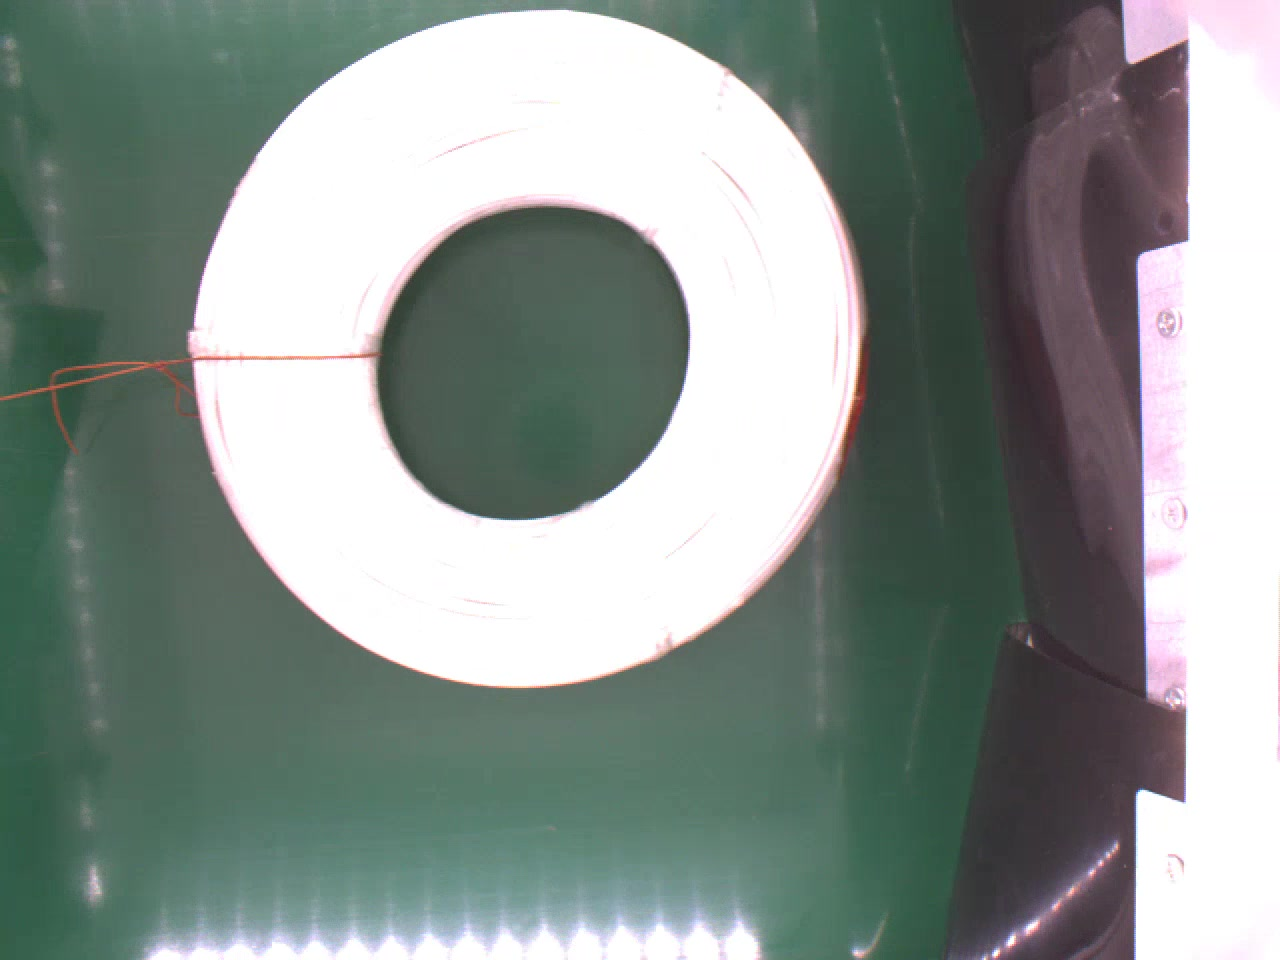white: (186, 12, 883, 696)
